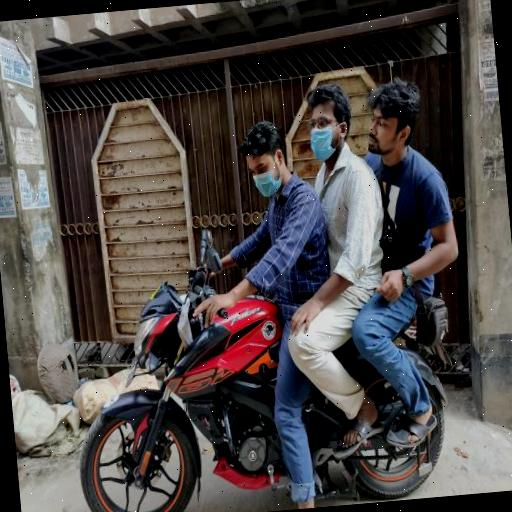no helmet: (226, 126, 313, 242)
triple riding: (49, 70, 494, 512)
